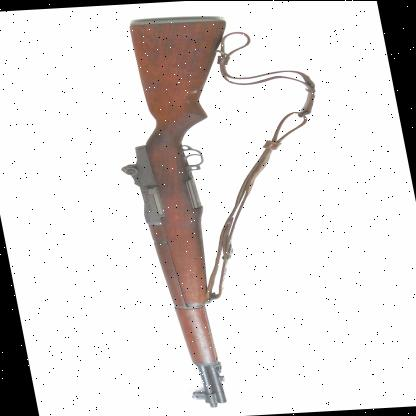rifle: (126, 19, 336, 416)
